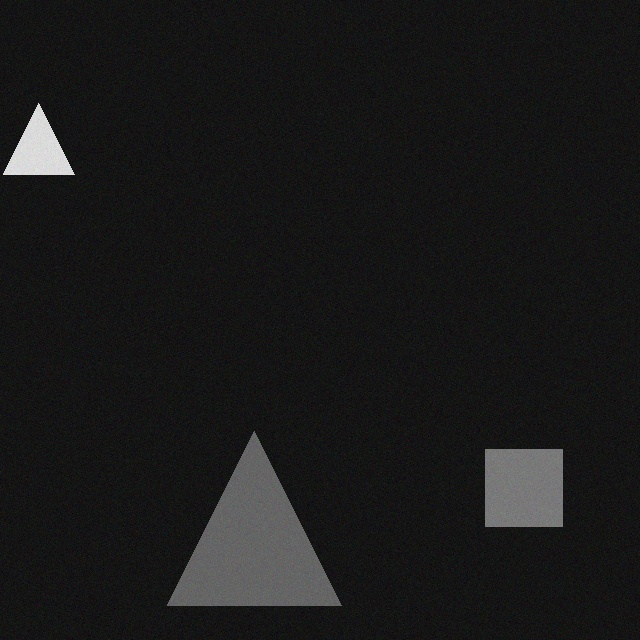square: (491, 454, 568, 531)
triangle: (173, 436, 347, 610), (9, 108, 80, 179)
